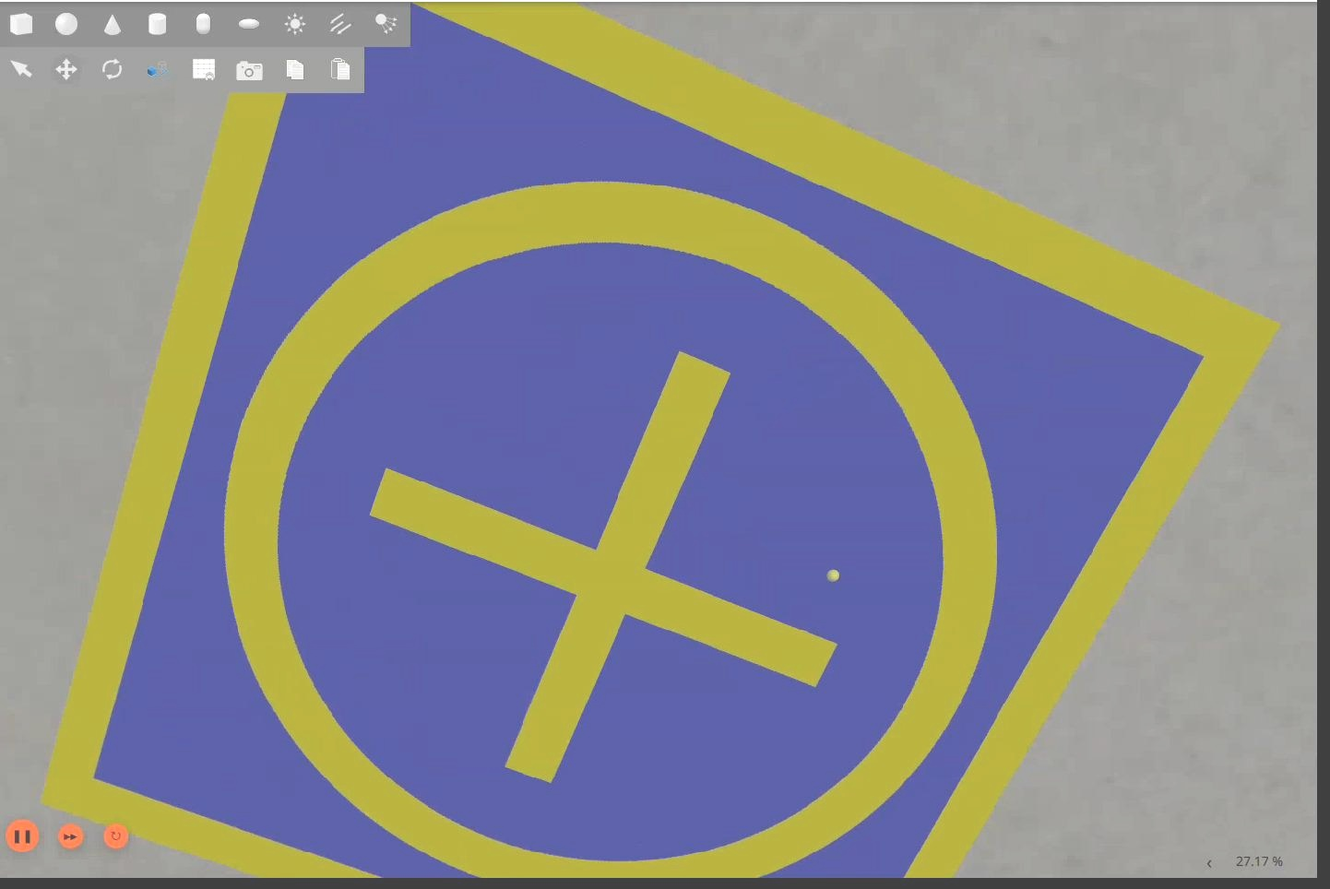small_base: (45, 1, 1273, 880)
